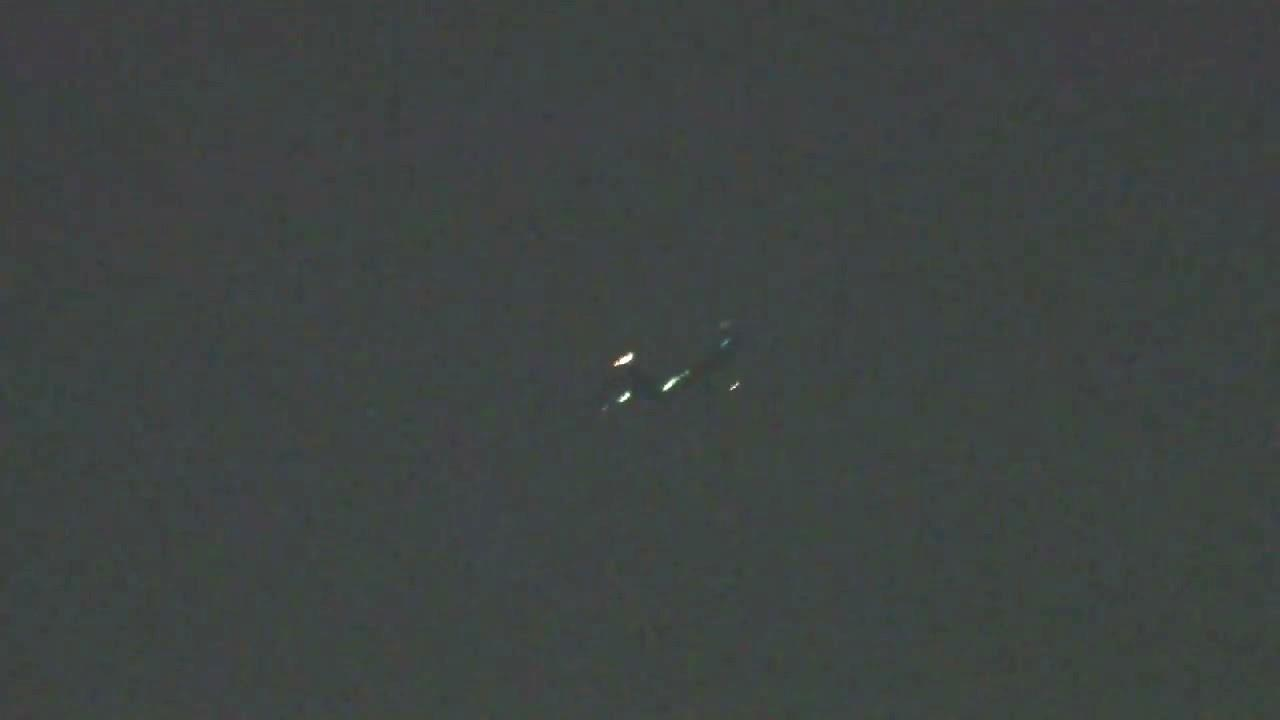Plane: (590, 291, 762, 431)
